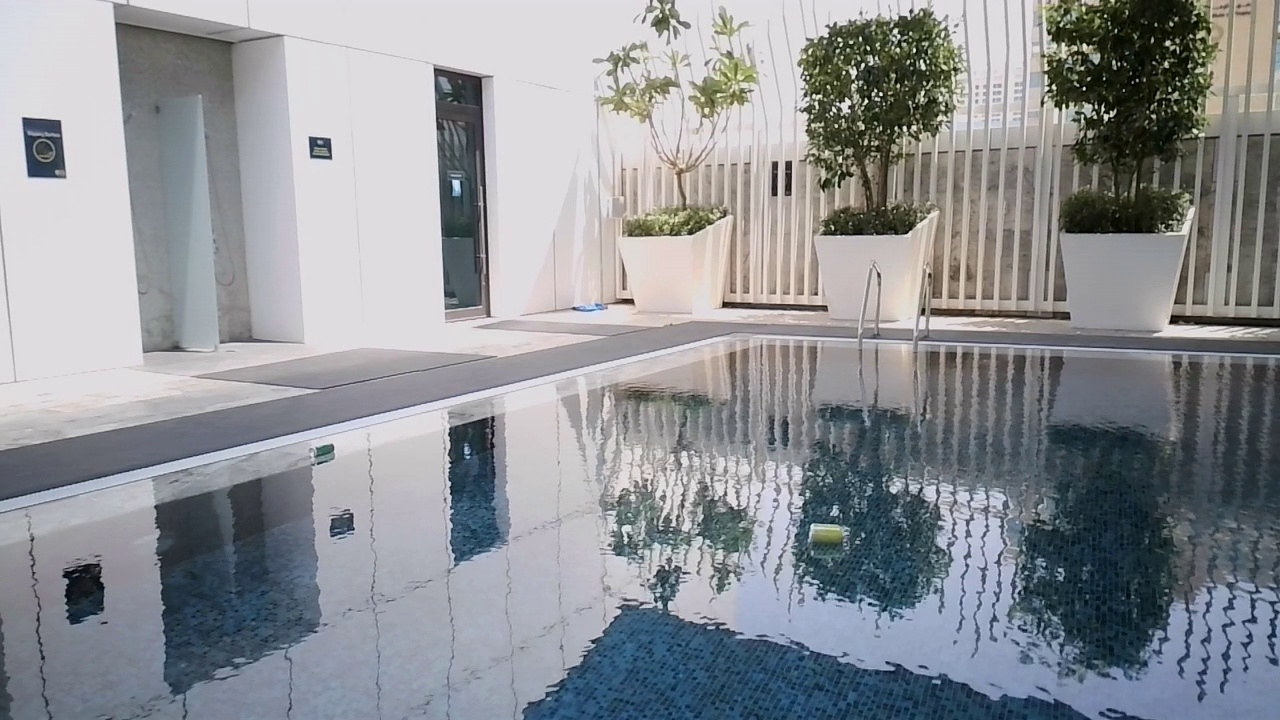debris: (807, 518, 848, 552)
